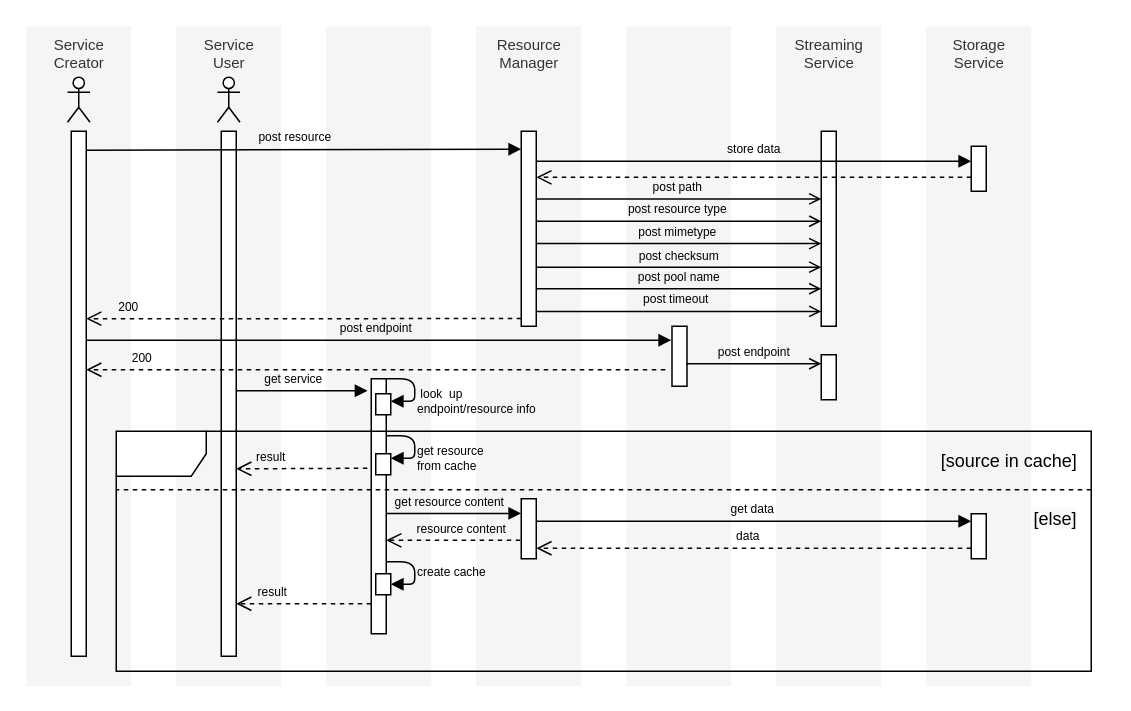
Image size: 1131x711. Some labels were removed from this diagram. The shapes that lost their labels are listed below. From the top down, each one's centre as x and y in pixels, then its label:
point (378, 356): Active Web Elements Server
point (678, 356): Endpoint Manager
point (603, 550): alt
